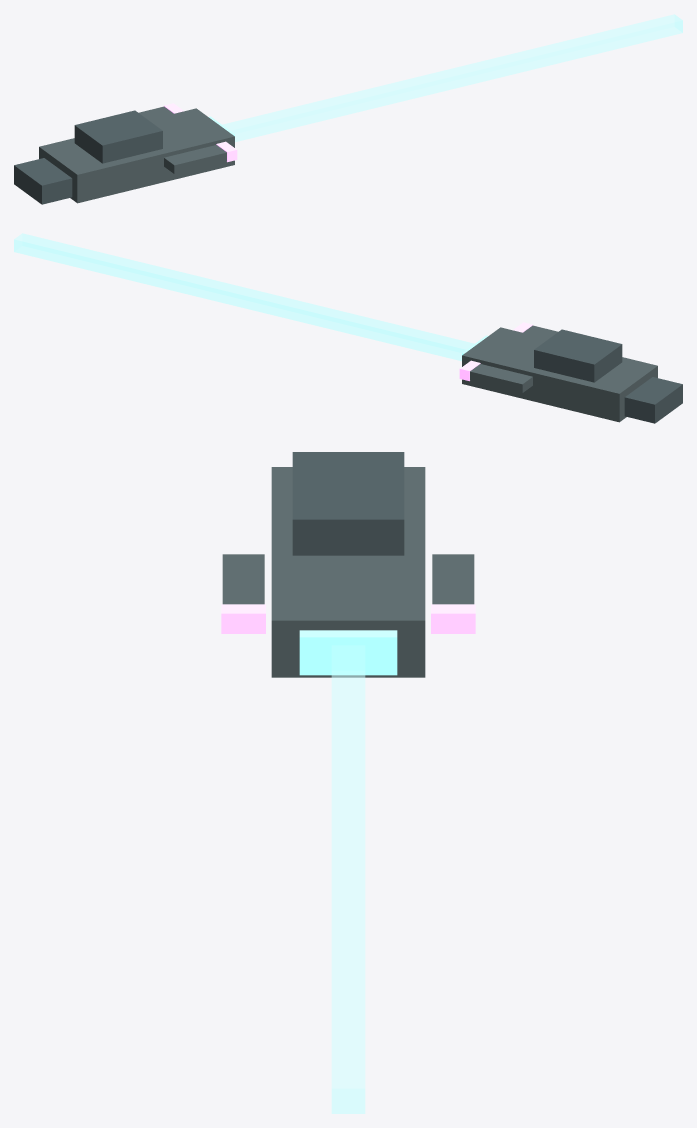
Rendered from decor-flyer.glb.
3 renders of one model, top to bottom at view 1: azimuth 30°, elevation 25°; view 2: azimuth 150°, elevation 25°; view 3: azimuth 270°, elevation 25°, orthographic. The views are drawn at different scales.
Visible parts, largest first — view 1: DecorFlyer; view 2: DecorFlyer; view 3: DecorFlyer.
Boxes of the visible parts, box(x1,y1,x2,y2) form: DecorFlyer: box(14, 14, 682, 204); DecorFlyer: box(14, 233, 682, 423); DecorFlyer: box(221, 452, 475, 1113).
Size of the model in its own units: 1.08 by 0.083 by 0.182.
